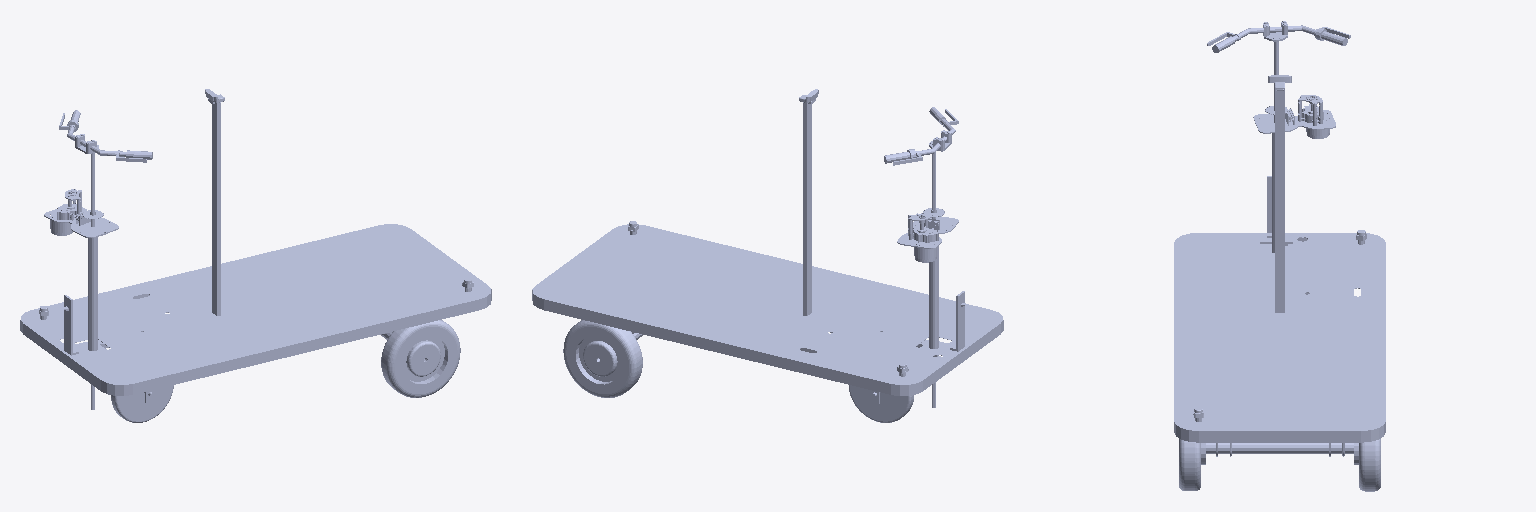
URDF robot description (Carver_Simulation):
<?xml version="1.0" encoding="utf-8"?>
<!-- This URDF was automatically created by SolidWorks to URDF Exporter! Originally created by [author] ([email redacted]) 
     Commit Version: 1.6.0-4-g7f85cfe  Build Version: 1.6.7995.38578
     For more information, please see http://wiki.ros.org/sw_urdf_exporter -->
<robot
  name="Carver_Simulation">
  <link
    name="base_link">
    <inertial>
      <origin
        xyz="-0.0165693433496452 0.00383942634735183 -0.000817493161058267"
        rpy="0 0 0" />
      <mass
        value="37.371684470221" />
      <inertia
        ixx="2.94202764307074"
        ixy="0.00865760497952898"
        ixz="0.0601337623044526"
        iyy="10.9291458319131"
        iyz="0.000101372386923447"
        izz="13.2592926130001" />
    </inertial>
    <visual>
      <origin
        xyz="0 0 0"
        rpy="0 0 0" />
      <geometry>
        <mesh
          filename="package://modelo_robot/meshes/base_link.STL" />
      </geometry>
      <material
        name="">
        <color
          rgba="0.792156862745098 0.819607843137255 0.933333333333333 1" />
      </material>
    </visual>
    <collision>
      <origin
        xyz="0 0 0"
        rpy="0 0 0" />
      <geometry>
        <mesh
          filename="package://modelo_robot/meshes/base_link.STL" />
      </geometry>
    </collision>
  </link>
  <link
    name="Hand">
    <inertial>
      <origin
        xyz="-0.0163697327965882 -0.0114067195760359 0.0137925030988115"
        rpy="0 0 0" />
      <mass
        value="0.60924910581716" />
      <inertia
        ixx="0.0172502548434045"
        ixy="-8.65184450644734E-05"
        ixz="2.57650399891012E-05"
        iyy="0.00174095337115687"
        iyz="8.39246317800817E-06"
        izz="0.018849059783654" />
    </inertial>
    <visual>
      <origin
        xyz="0 0 0"
        rpy="0 0 0" />
      <geometry>
        <mesh
          filename="package://modelo_robot/meshes/Hand.STL" />
      </geometry>
      <material
        name="">
        <color
          rgba="0.792156862745098 0.819607843137255 0.933333333333333 1" />
      </material>
    </visual>
    <collision>
      <origin
        xyz="0 0 0"
        rpy="0 0 0" />
      <geometry>
        <mesh
          filename="package://modelo_robot/meshes/Hand.STL" />
      </geometry>
    </collision>
  </link>
  <joint
    name="Hand"
    type="revolute">
    <origin
      xyz="-0.8089 -0.0133 0.945"
      rpy="0 0 -3.0131" />
    <parent
      link="base_link" />
    <child
      link="Hand" />
    <axis
      xyz="0 0 -1" />
    <limit
      lower="-1.57079632679"
      upper="1.57079632679"
      effort="0"
      velocity="0" />
  </joint>
  <link
    name="Caster">
    <inertial>
      <origin
        xyz="0 -9.43473255992894E-17 -0.104775587726131"
        rpy="0 0 0" />
      <mass
        value="0.193424777960769" />
      <inertia
        ixx="0.0014025581760965"
        ixy="2.50052886906149E-05"
        ixz="-1.44817994119794E-19"
        iyy="0.000934524386055236"
        iyz="-6.65058343506944E-19"
        izz="0.000520235989765606" />
    </inertial>
    <visual>
      <origin
        xyz="0 0 0"
        rpy="0 0 0" />
      <geometry>
        <mesh
          filename="package://modelo_robot/meshes/Caster.STL" />
      </geometry>
      <material
        name="">
        <color
          rgba="0.792156862745098 0.819607843137255 0.933333333333333 1" />
      </material>
    </visual>
    <collision>
      <origin
        xyz="0 0 0"
        rpy="0 0 0" />
      <geometry>
        <mesh
          filename="package://modelo_robot/meshes/Caster.STL" />
      </geometry>
    </collision>
  </link>
  <joint
    name="Caster"
    type="revolute">
    <origin
      xyz="-0.5575 0 -0.075"
      rpy="0 0 3.1416" />
    <parent
      link="base_link" />
    <child
      link="Caster" />
    <axis
      xyz="0 0 1" />
    <limit
      lower="-1.57079632679"
      upper="1.57079632679"
      effort="0"
      velocity="0" />
  </joint>
  <link
    name="Front_Wheel">
    <inertial>
      <origin
        xyz="0 0 -9.87142072128186E-18"
        rpy="0 0 0" />
      <mass
        value="3.12687627273034" />
      <inertia
        ixx="0.0180225780012183"
        ixy="2.49020474755959E-19"
        ixz="-0.000899856132012397"
        iyy="0.0179746385139624"
        iyz="5.11486813332503E-18"
        izz="0.0348655379513552" />
    </inertial>
    <visual>
      <origin
        xyz="0 0 0"
        rpy="0 0 0" />
      <geometry>
        <mesh
          filename="package://modelo_robot/meshes/Front_Wheel.STL" />
      </geometry>
      <material
        name="">
        <color
          rgba="0.792156862745098 0.819607843137255 0.933333333333333 1" />
      </material>
    </visual>
    <collision>
      <origin
        xyz="0 0 0"
        rpy="0 0 0" />
      <geometry>
        <mesh
          filename="package://modelo_robot/meshes/Front_Wheel.STL" />
      </geometry>
    </collision>
  </link>
  <joint
    name="Front_Wheel"
    type="continuous">
    <origin
      xyz="0 0 -0.19"
      rpy="-1.5708 0 0" />
    <parent
      link="Caster" />
    <child
      link="Front_Wheel" />
    <axis
      xyz="0 0 -1" />
  </joint>
  <link
    name="Left_Wheel">
    <inertial>
      <origin
        xyz="1.11022302462516E-16 0 -0.0106289786705237"
        rpy="0 0 0" />
      <mass
        value="7.06100394665823" />
      <inertia
        ixx="0.0674525928695192"
        ixy="-7.86224832473996E-18"
        ixz="7.3950420460897E-19"
        iyy="0.0674525928695192"
        iyz="3.10925130132762E-19"
        izz="0.127189460779996" />
    </inertial>
    <visual>
      <origin
        xyz="0 0 0"
        rpy="0 0 0" />
      <geometry>
        <mesh
          filename="package://modelo_robot/meshes/Left_Wheel.STL" />
      </geometry>
      <material
        name="">
        <color
          rgba="0.792156862745098 0.819607843137255 0.933333333333333 1" />
      </material>
    </visual>
    <collision>
      <origin
        xyz="0 0 0"
        rpy="0 0 0" />
      <geometry>
        <mesh
          filename="package://modelo_robot/meshes/Left_Wheel.STL" />
      </geometry>
    </collision>
  </link>
  <joint
    name="Left_Wheel"
    type="continuous">
    <origin
      xyz="0.5995 -0.3775 -0.23467"
      rpy="-1.5708 0 3.1416" />
    <parent
      link="base_link" />
    <child
      link="Left_Wheel" />
    <axis
      xyz="0 0 -1" />
  </joint>
  <link
    name="Right_Wheel">
    <inertial>
      <origin
        xyz="0 -2.77555756156289E-17 -0.0106289786705236"
        rpy="0 0 0" />
      <mass
        value="7.06100394665823" />
      <inertia
        ixx="0.0674525928695192"
        ixy="-1.08420198492021E-33"
        ixz="1.07496044377481E-19"
        iyy="0.0674525928695193"
        iyz="-6.1125706242759E-34"
        izz="0.127189460779996" />
    </inertial>
    <visual>
      <origin
        xyz="0 0 0"
        rpy="0 0 0" />
      <geometry>
        <mesh
          filename="package://modelo_robot/meshes/Right_Wheel.STL" />
      </geometry>
      <material
        name="">
        <color
          rgba="0.792156862745098 0.819607843137255 0.933333333333333 1" />
      </material>
    </visual>
    <collision>
      <origin
        xyz="0 0 0"
        rpy="0 0 0" />
      <geometry>
        <mesh
          filename="package://modelo_robot/meshes/Right_Wheel.STL" />
      </geometry>
    </collision>
  </link>
  <joint
    name="Right_Wheel"
    type="continuous">
    <origin
      xyz="0.5995 0.3775 -0.23467"
      rpy="1.5708 0 3.1416" />
    <parent
      link="base_link" />
    <child
      link="Right_Wheel" />
    <axis
      xyz="0 0 -1" />
  </joint>
</robot>

--- Render facts (derived) ---
Views: 3 orthographic renders of the robot side by side, from view 1: azimuth 30°, elevation 25°; view 2: azimuth 150°, elevation 25°; view 3: azimuth 270°, elevation 25°.
Robot: Carver_Simulation — 6 links, 5 joints (2 revolute, 3 continuous); root link base_link; default pose: all joints at 0.
Links seen in each view (by area): view 1: base_link, Left_Wheel, Front_Wheel, Hand; view 2: base_link, Right_Wheel, Front_Wheel, Hand; view 3: base_link, Hand, Right_Wheel, Left_Wheel.
Boxes of the visible links, x1=… form: base_link: x1=20, y1=89, x2=491, y2=409; Left_Wheel: x1=381, y1=320, x2=460, y2=397; Front_Wheel: x1=111, y1=385, x2=173, y2=422; Hand: x1=59, y1=110, x2=152, y2=162; base_link: x1=532, y1=89, x2=1003, y2=407; Right_Wheel: x1=563, y1=320, x2=642, y2=397; Front_Wheel: x1=849, y1=385, x2=913, y2=422; Hand: x1=884, y1=107, x2=958, y2=165; base_link: x1=1174, y1=36, x2=1385, y2=464; Hand: x1=1207, y1=21, x2=1350, y2=52; Right_Wheel: x1=1359, y1=439, x2=1380, y2=491; Left_Wheel: x1=1179, y1=439, x2=1200, y2=490.
Size in the robot's own frame: 1.92 by 0.86 by 1.46 metres.
6 mesh visuals loaded from 6 distinct referenced files (6 binary STL).
